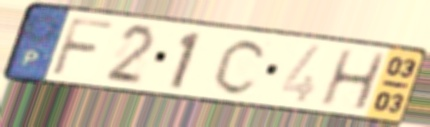1: (167, 29, 205, 91)
2: (102, 22, 158, 88)
4: (277, 42, 324, 106)
C: (211, 36, 271, 97)
F: (47, 14, 117, 79)
H: (316, 48, 389, 113)
